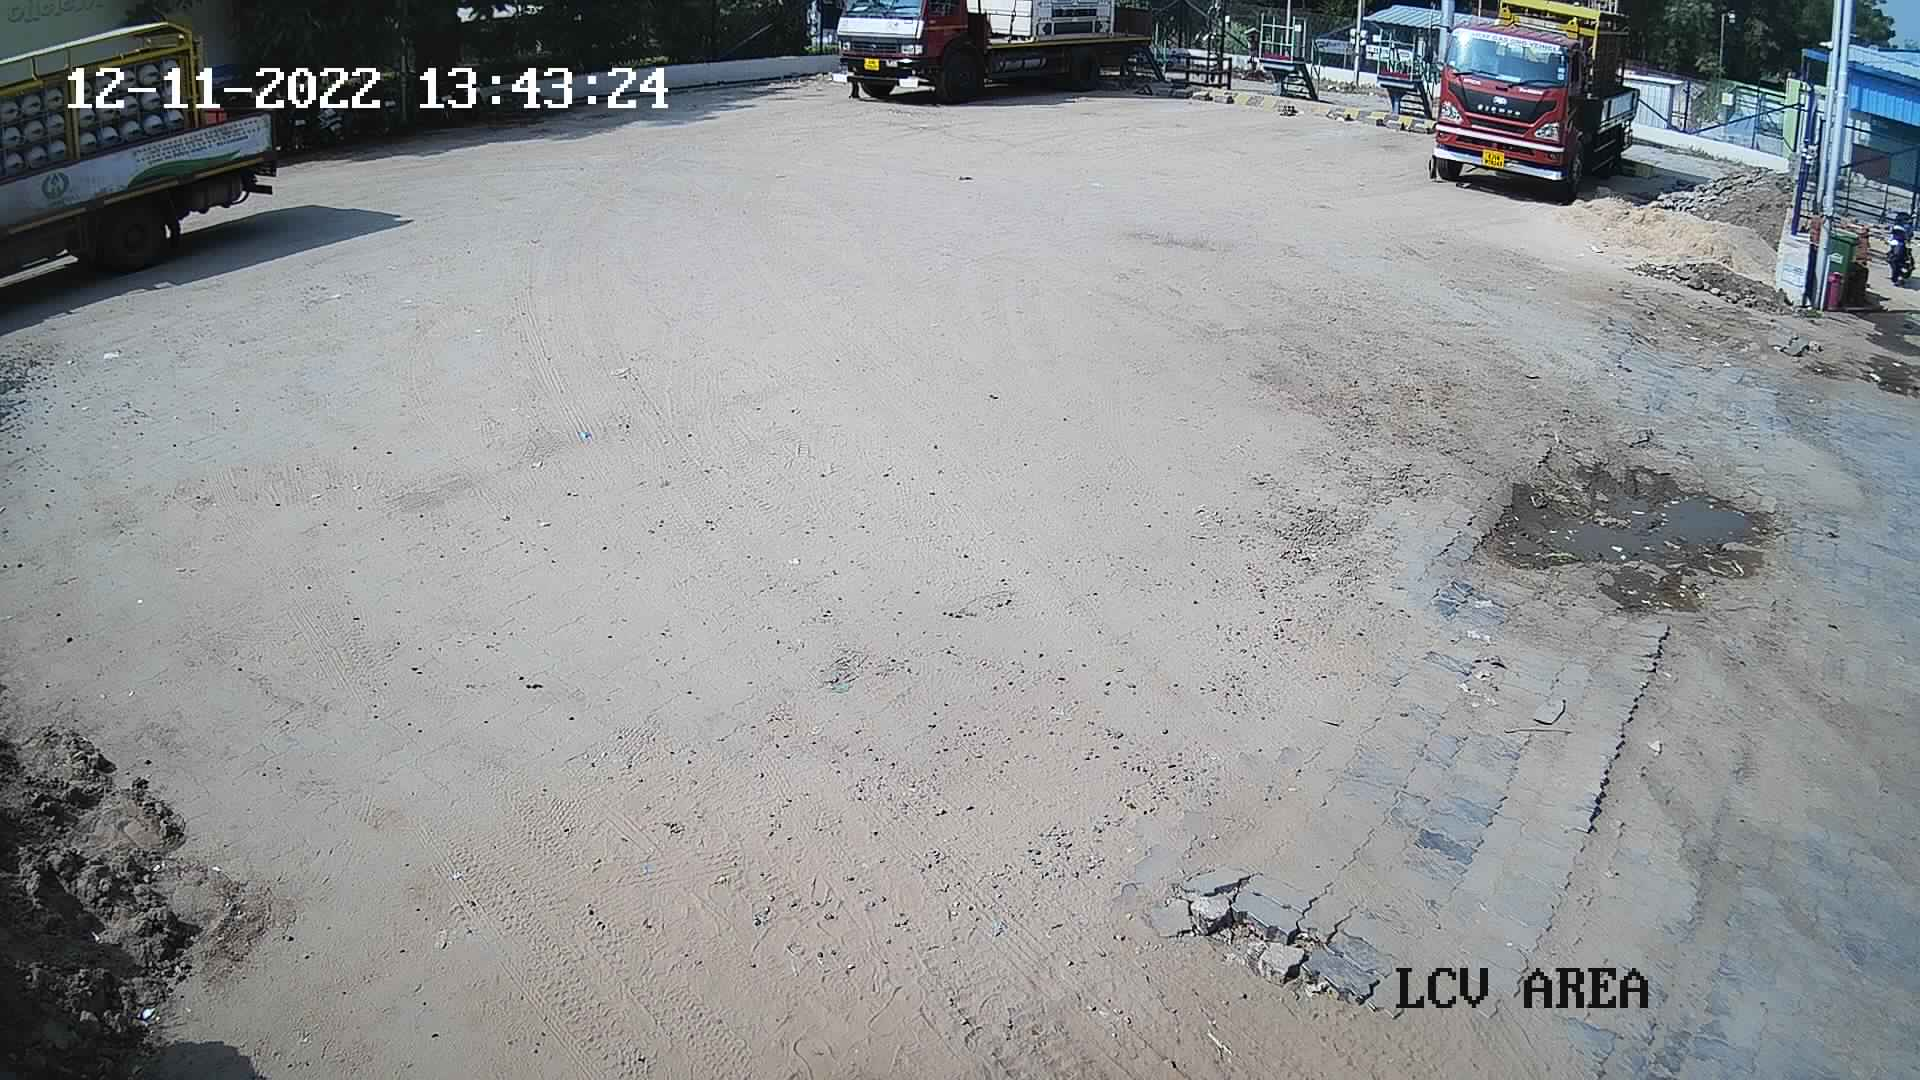Bike: (1869, 203, 1917, 301)
HMV: (0, 7, 306, 284), (1408, 3, 1656, 204), (803, 0, 1185, 109)
